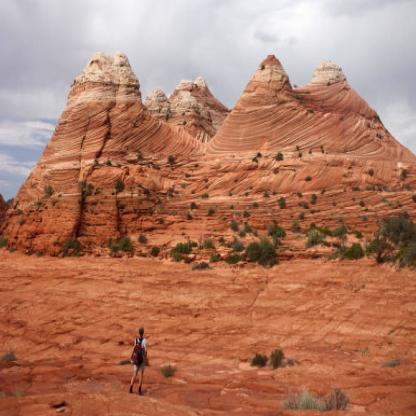Sedimentary_Sandstone: (3, 53, 136, 250), (146, 80, 213, 141), (253, 51, 294, 143), (301, 67, 342, 135)
